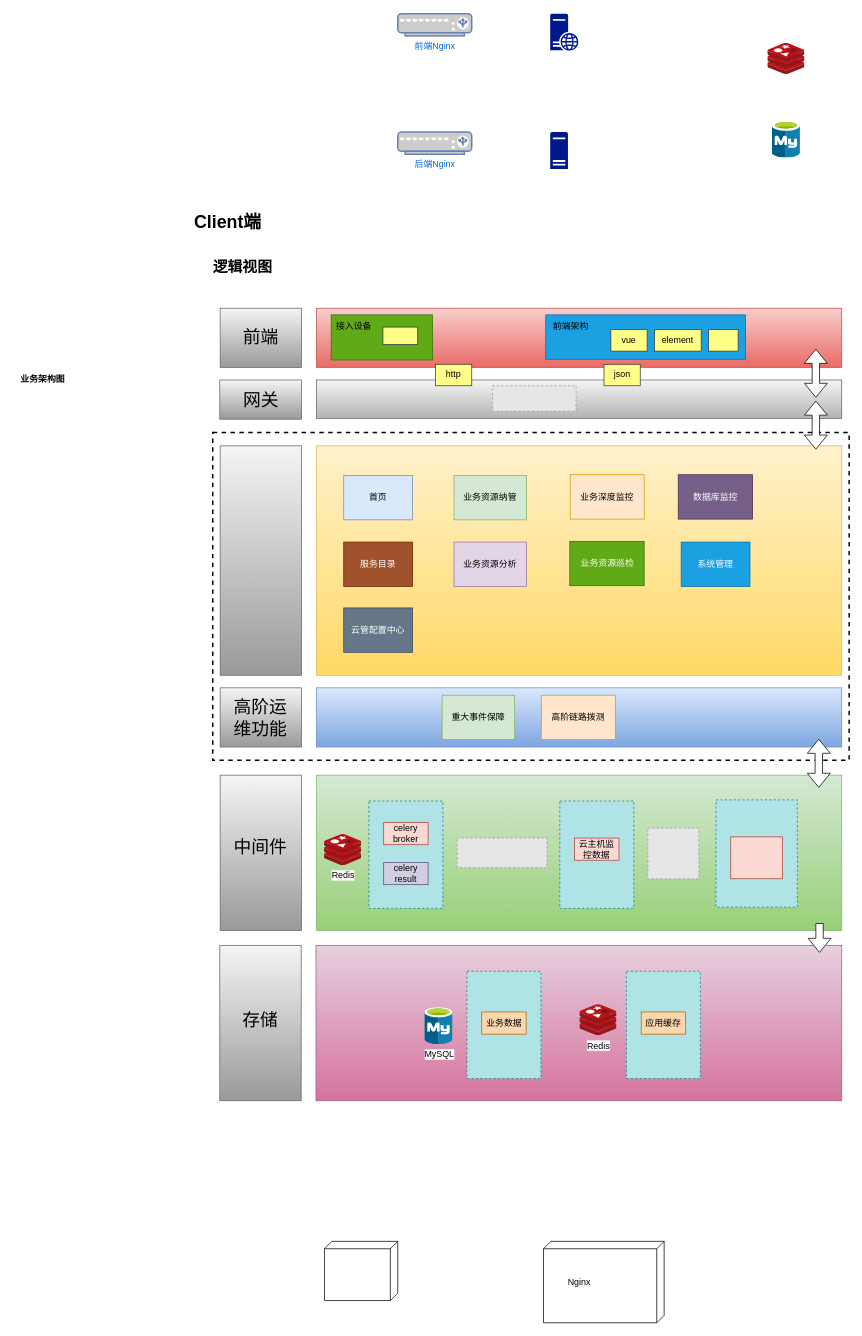
The diagram is 862 pixels wide and 1336 high, and some of its shapes have lost their labels. Grey dashed boxes stand in for pictures. The box of each missing label's shape, as (x1, y1, x2, y2) in pixels:
PC: (382, 326, 418, 344)
vite: (708, 329, 738, 351)
云管家主机: (543, 1241, 664, 1323)
基础功能: (219, 445, 302, 675)
客户端PC: (324, 1241, 398, 1301)
物理机及硬件监控数据: (730, 836, 783, 879)
